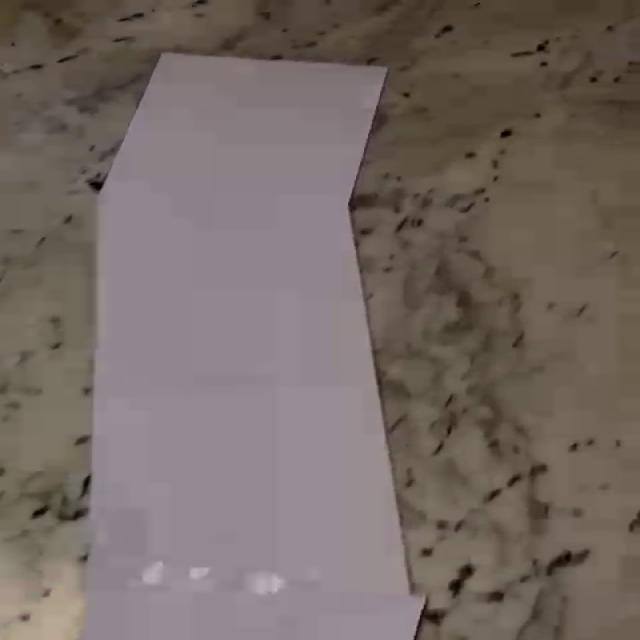road: (80, 52, 427, 640)
